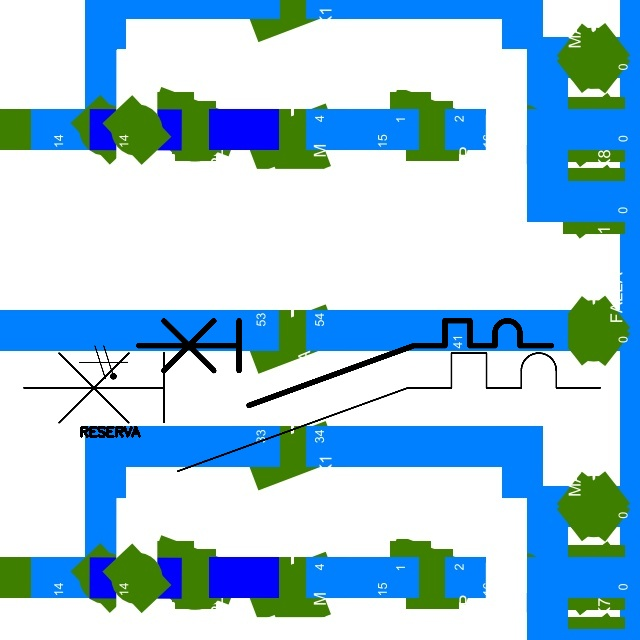interruptor_termomagnetico: (9, 338, 615, 486), (128, 310, 562, 416)
